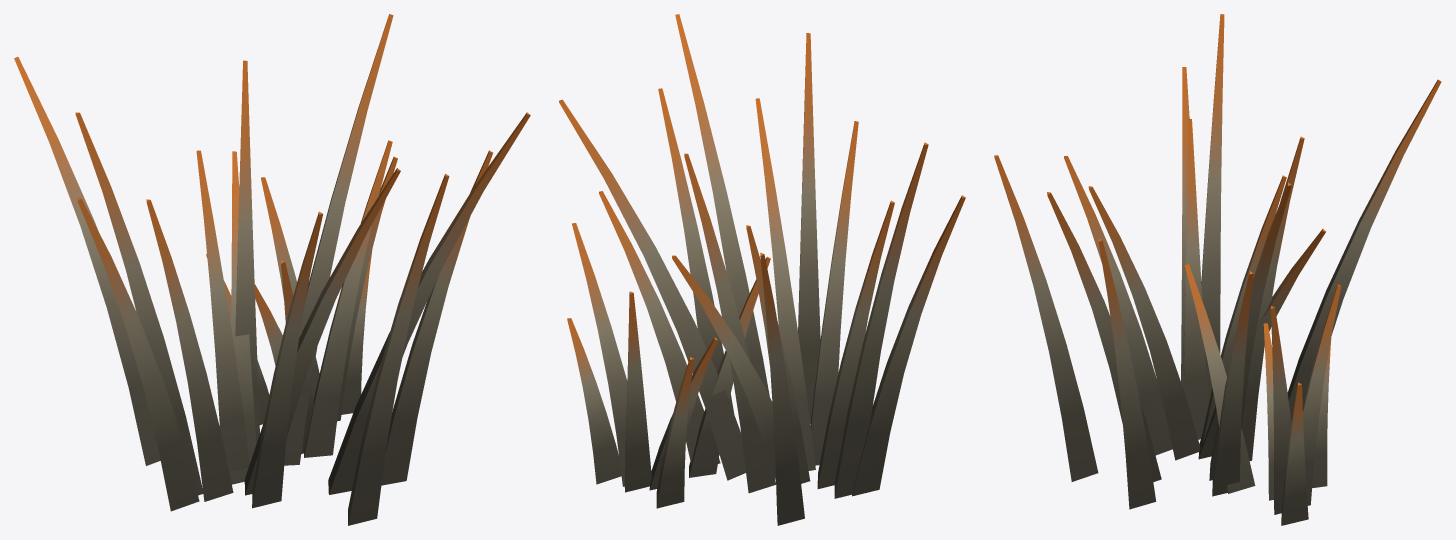
File: EmberGrassTuft.fbx
The picture shows the model from 3 angles, left to right: view 1: azimuth 30°, elevation 25°; view 2: azimuth 150°, elevation 25°; view 3: azimuth 270°, elevation 25°; orthographic projection. The views are drawn at different scales.
Visible parts, largest first — view 1: EmberGrassTuft; view 2: EmberGrassTuft; view 3: EmberGrassTuft.
Boxes of the visible parts, box(x1,y1,x2,y2) form: EmberGrassTuft: box(14, 14, 530, 525); EmberGrassTuft: box(559, 14, 965, 525); EmberGrassTuft: box(994, 14, 1441, 525).
Bounding box in the file's own units: 0.3583 × 0.3603 × 0.3949.
